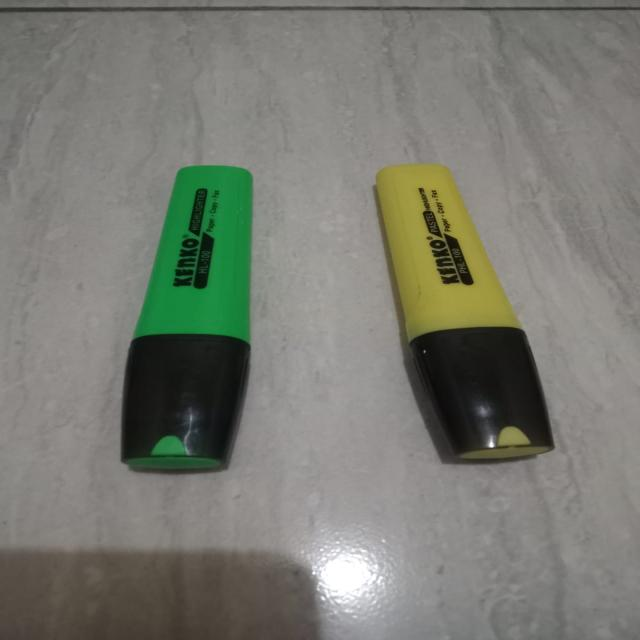highlighter: (88, 134, 613, 548)
